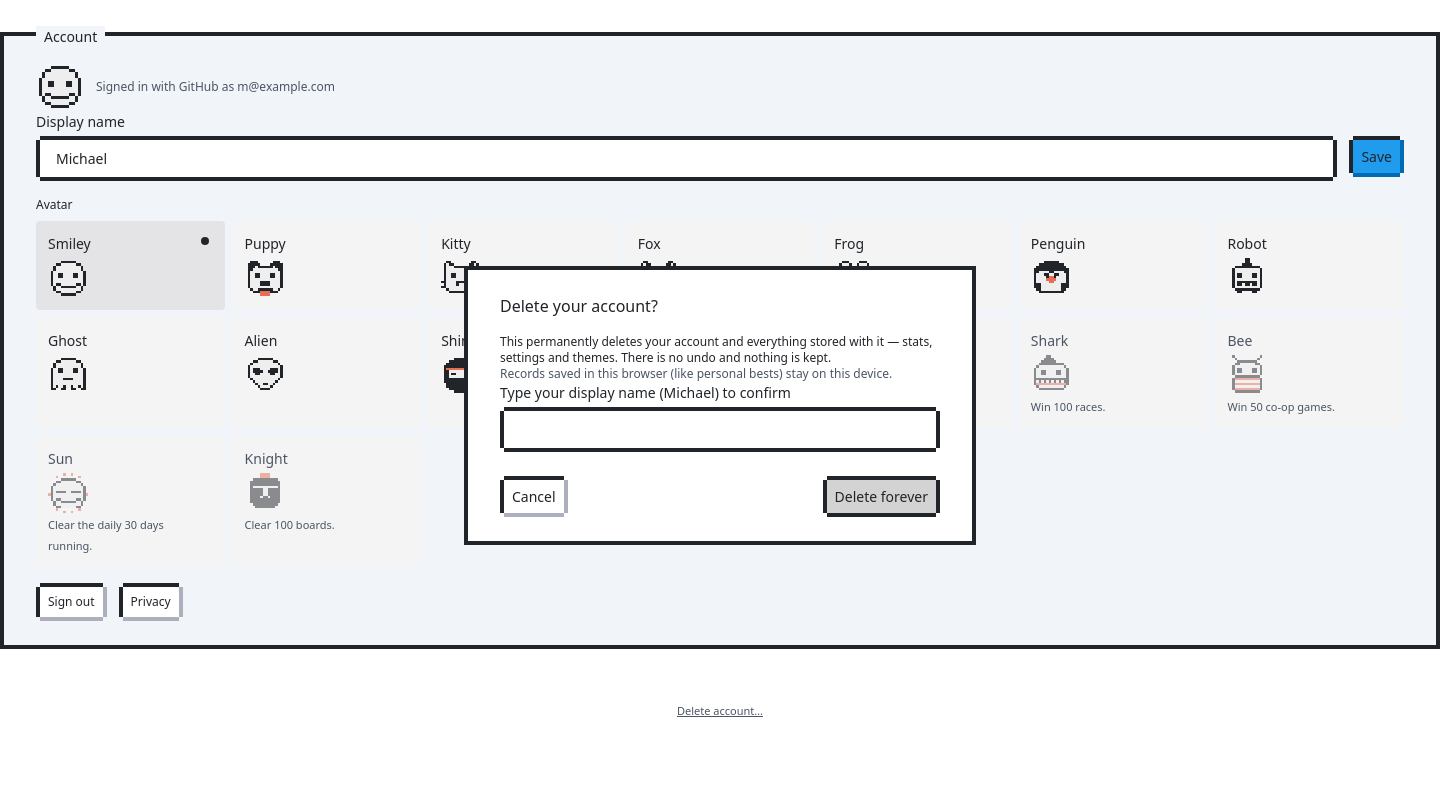
Test: deletion › stays disarmed until the display name is typed back
Expected: the field named "Display name" is shown, [40,140,1333,177]
Expected: the button "Delete forever" is disabled, [827,480,936,512]
Type "michael" into the field named "Type your display name to confirm" at (720, 429), box [504,410,936,448]
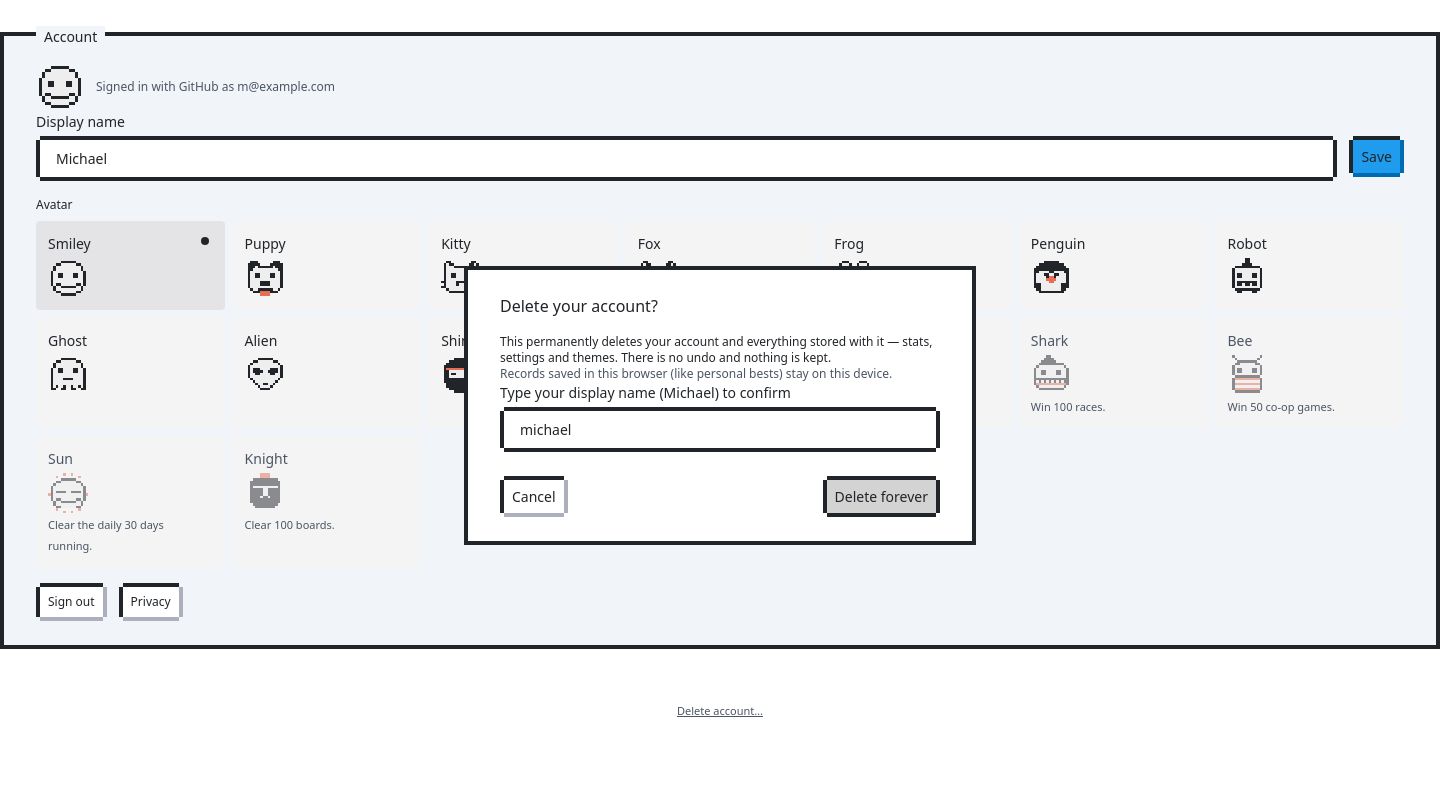
Expected: the button "Delete forever" is disabled, [827,480,936,512]
Replace the text in the field named "Type your display name to confirm" with "Michael" at (720, 429), box [504,410,936,448]
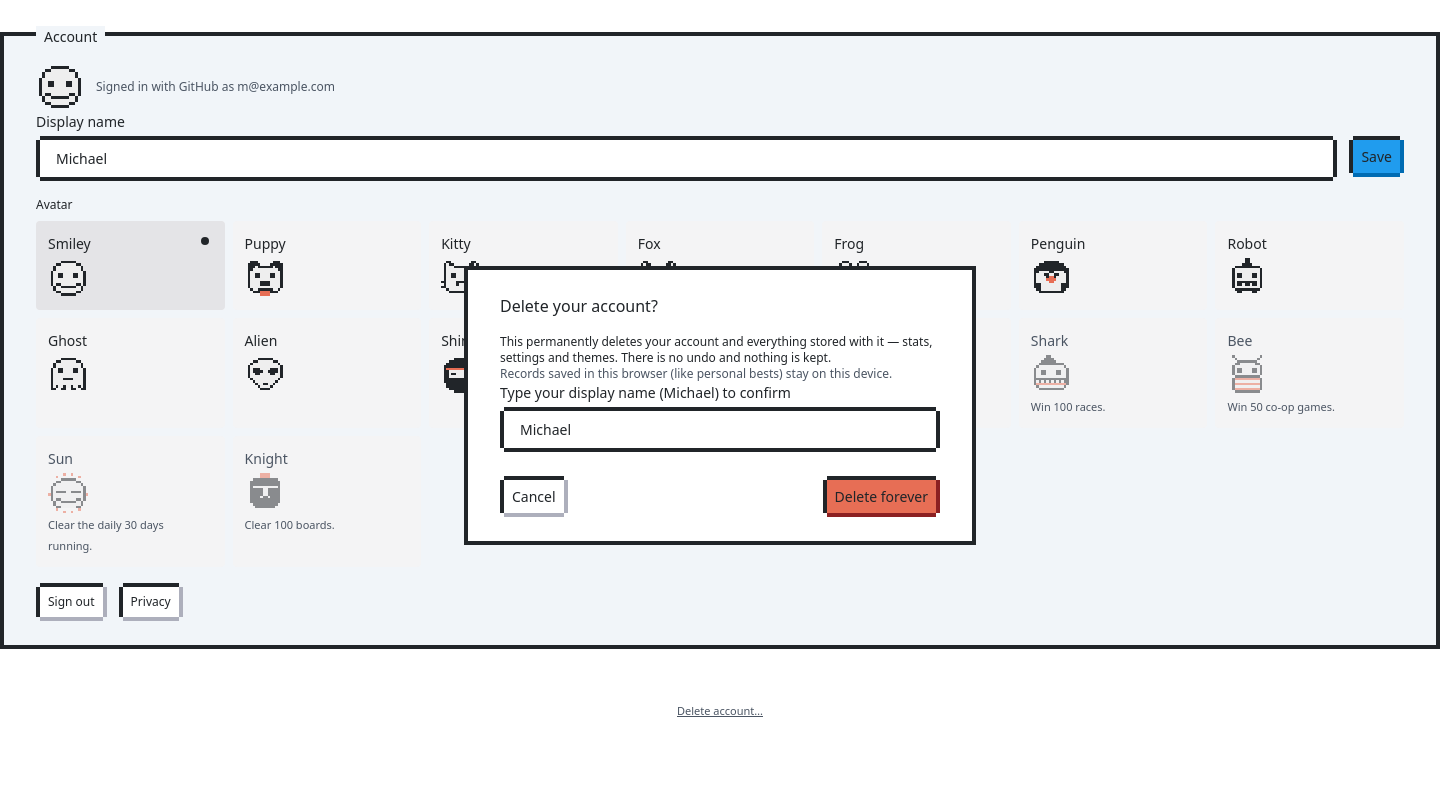
Now the button "Delete forever" is enabled, box [827,480,936,512]
